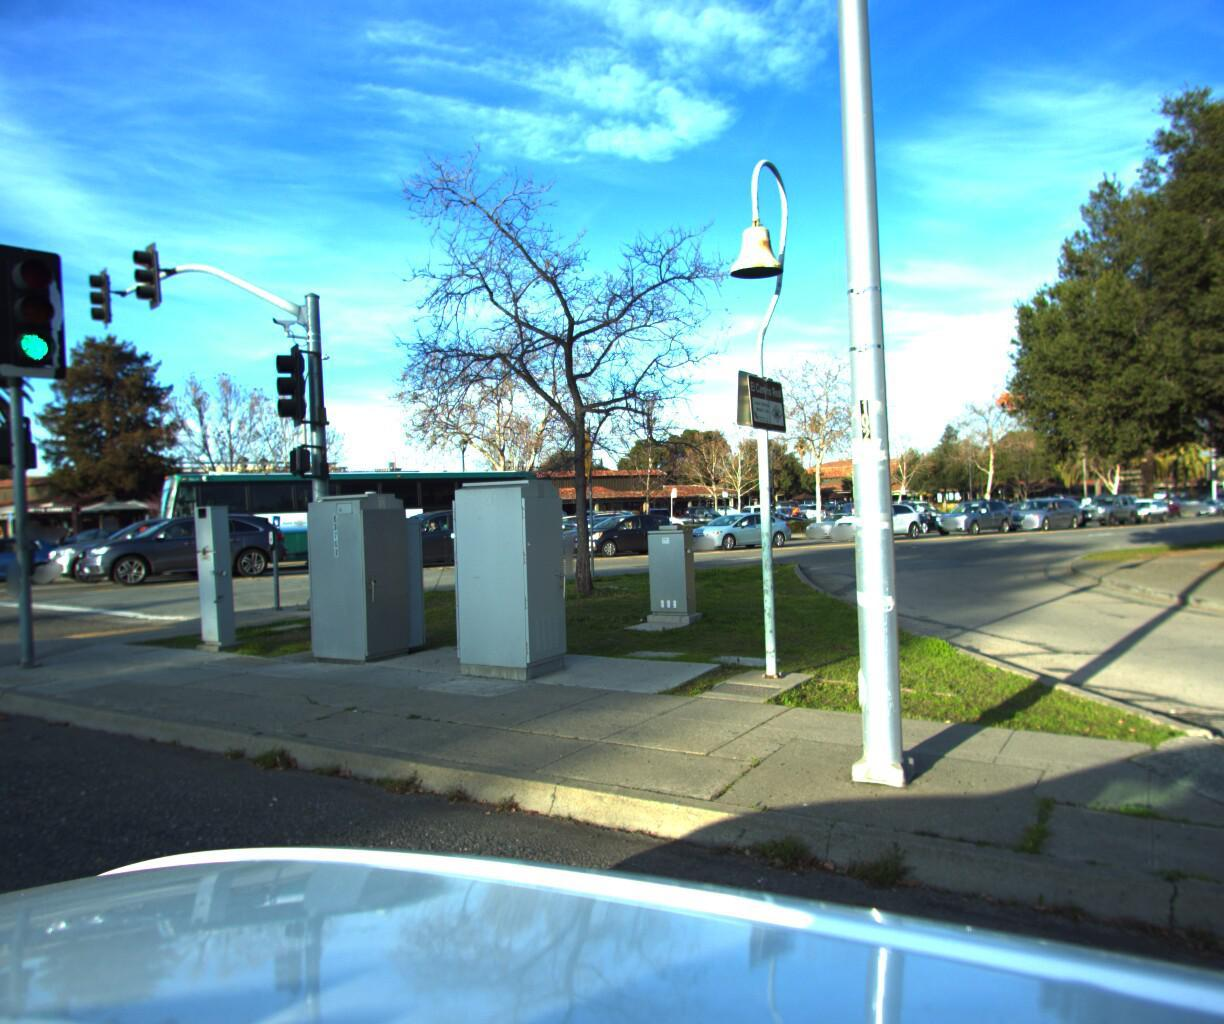bus: (136, 456, 551, 582)
car: (71, 503, 296, 588), (43, 505, 247, 584), (343, 497, 535, 570), (561, 503, 681, 555), (533, 505, 656, 553), (676, 500, 797, 547), (0, 526, 72, 595), (822, 492, 927, 536), (997, 486, 1091, 527), (927, 489, 1020, 529), (576, 500, 669, 537), (1065, 482, 1146, 524), (800, 502, 884, 536), (654, 498, 743, 530), (1111, 487, 1171, 517), (1174, 482, 1224, 515), (874, 493, 942, 516), (1221, 481, 1224, 516)
